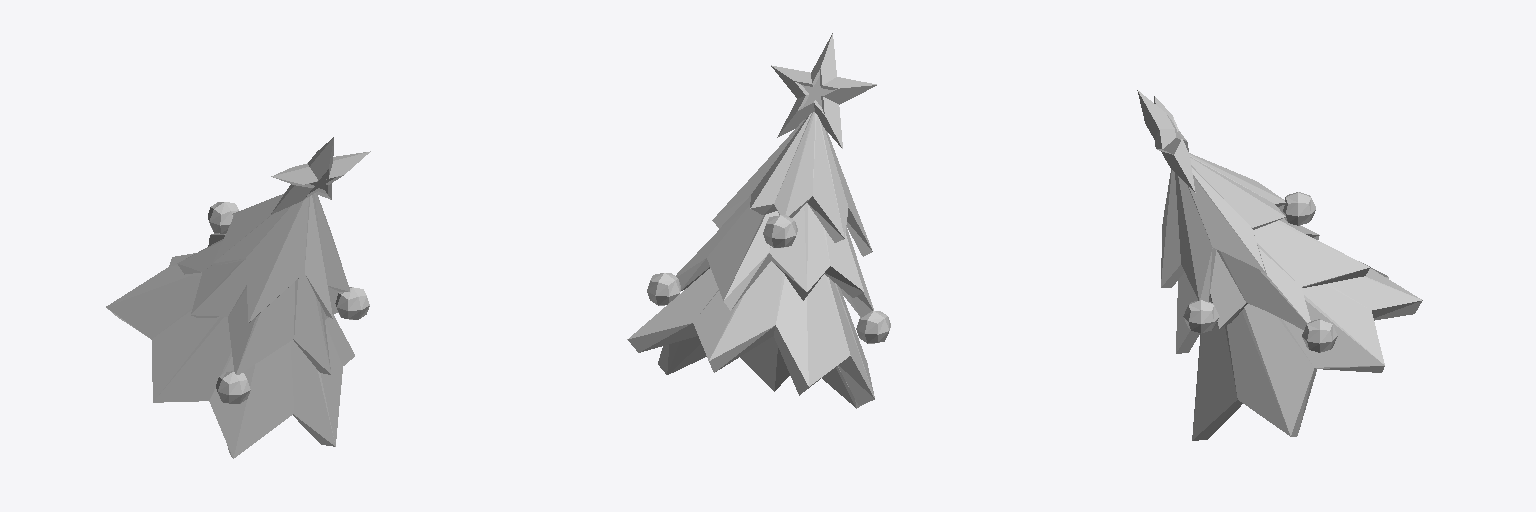
The model's file is tree_christmas_2022.sgm.obj.
3 views of the same model, side by side, from view 1: azimuth 30°, elevation 25°; view 2: azimuth 150°, elevation 25°; view 3: azimuth 270°, elevation 25° (orthographic).
Size of the model in its own units: 0.5199 by 0.8014 by 0.6117.